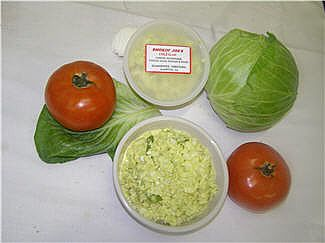cabbage: (203, 27, 299, 132)
